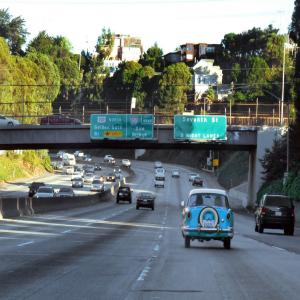Vehicle-registration-plate: (204, 220, 216, 228), (276, 212, 282, 217), (145, 199, 148, 202), (120, 194, 123, 196), (144, 200, 147, 202), (120, 194, 123, 195)
